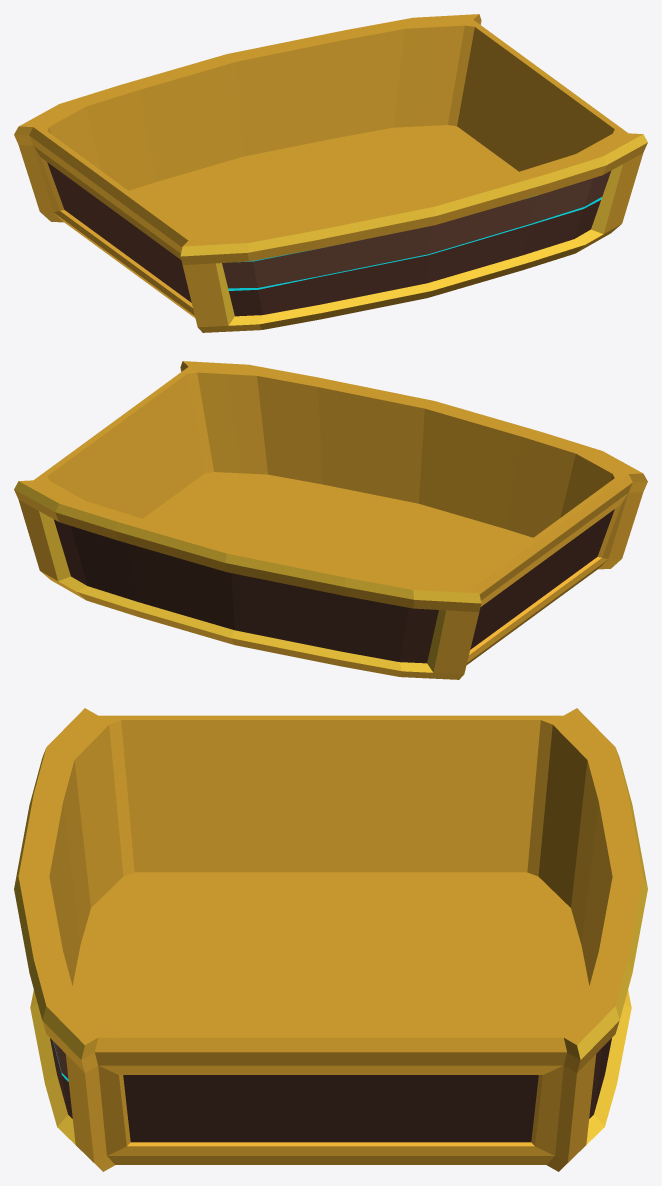
File: Chest_Base_Gold_01.glb
The picture shows the model from 3 angles, top to bottom: view 1: azimuth 30°, elevation 25°; view 2: azimuth 150°, elevation 25°; view 3: azimuth 270°, elevation 25°; orthographic projection. The views are drawn at different scales.
Visible parts, largest first — view 1: Chest_Base_Gold_01; view 2: Chest_Base_Gold_01; view 3: Chest_Base_Gold_01.
Part boxes in pixels (<box>): Chest_Base_Gold_01: <box>14,14,647,332</box>; Chest_Base_Gold_01: <box>14,361,647,679</box>; Chest_Base_Gold_01: <box>14,708,647,1171</box>.
Size of what is drawn, in the model's own units: 1.4 by 0.2791 by 1.1.
Materials: 2 (2 with a texture image).
